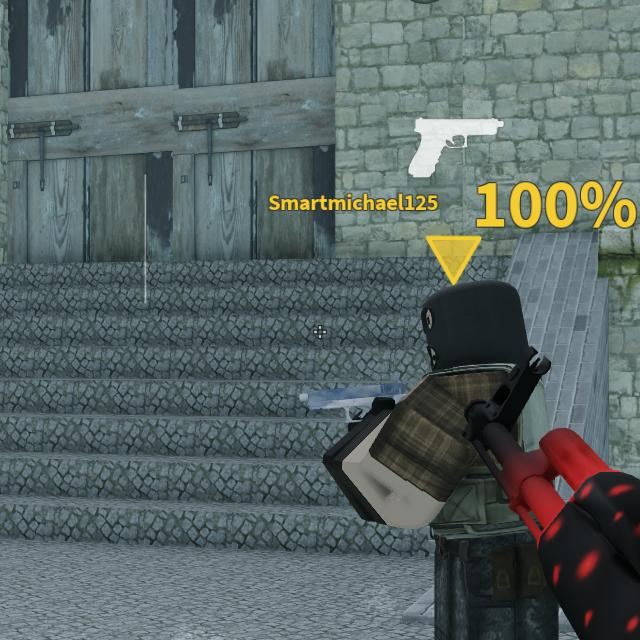Head: (422, 282, 528, 366)
Player: (324, 279, 564, 640)
